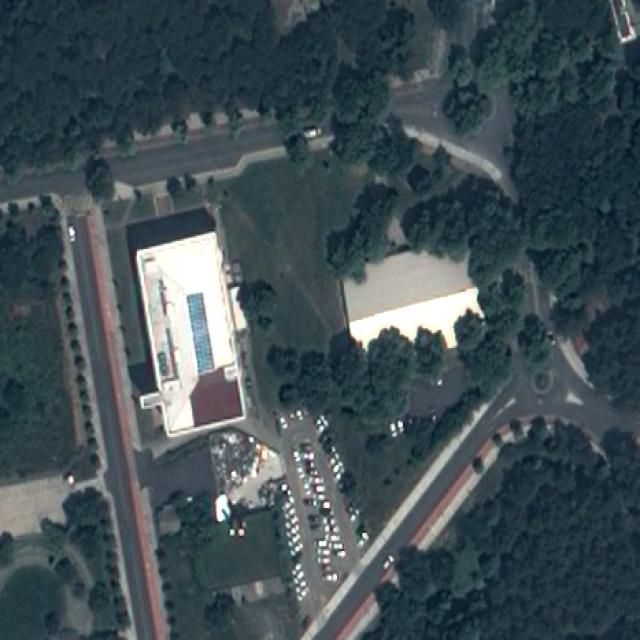Batiment: (135, 230, 244, 436), (342, 251, 481, 348)
